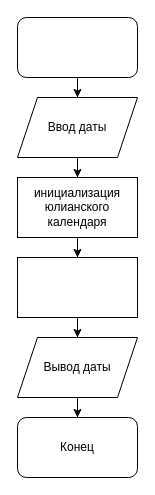
The diagram is 155 pixels wide and 495 high, and some of its shapes have lost their labels. The centre of each missing label's shape, as x and y in pixels:
Начало: point 77,47
Преобразование в грегорианский календарь: point 77,287
